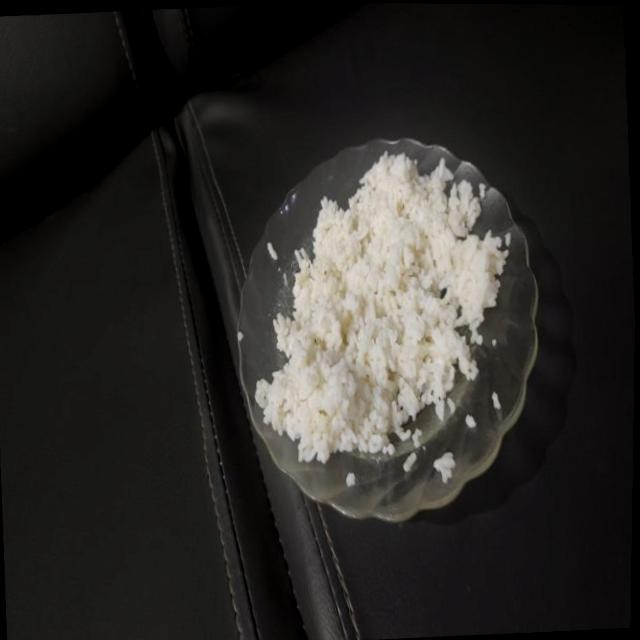nasi_putih: (256, 152, 510, 462)
